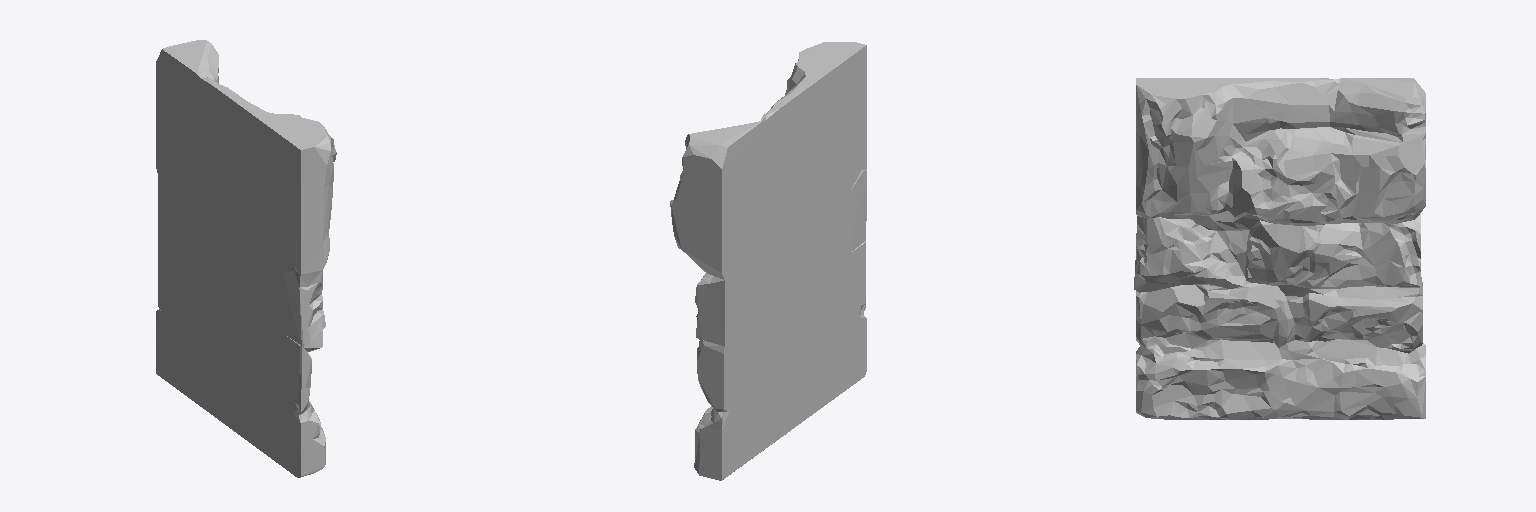
File: Rock_Wall_1.obj
3 views of the same model, side by side, from view 1: azimuth 30°, elevation 25°; view 2: azimuth 150°, elevation 25°; view 3: azimuth 270°, elevation 25° (orthographic).
Parts seen in each view (by area): view 1: Rock_Wall_1:Group47654; view 2: Rock_Wall_1:Group47654; view 3: Rock_Wall_1:Group47654.
Boxes of the visible parts, x1,y1,x2,y2 form: Rock_Wall_1:Group47654: [156, 40, 336, 477]; Rock_Wall_1:Group47654: [670, 42, 866, 480]; Rock_Wall_1:Group47654: [1134, 78, 1425, 419].
Size of the model in its own units: 0.8883 by 5.03 by 4.04.